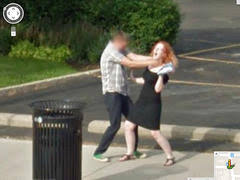people: (94, 31, 147, 161), (130, 42, 174, 165)
